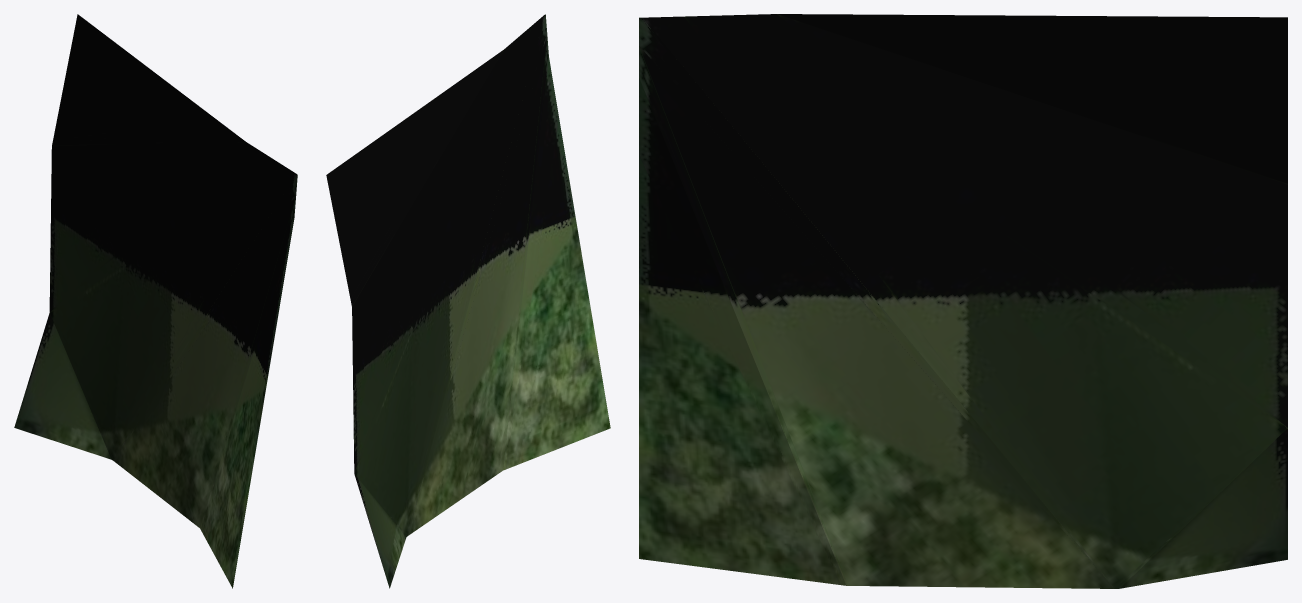
3 views of the same model, side by side, from view 1: azimuth 30°, elevation 25°; view 2: azimuth 150°, elevation 25°; view 3: azimuth 270°, elevation 25° (orthographic). The views are drawn at different scales.
Bounding box in the file's own units: 1.01 × 5.9 × 5.9.
Materials: 2 (2 with a texture image).
